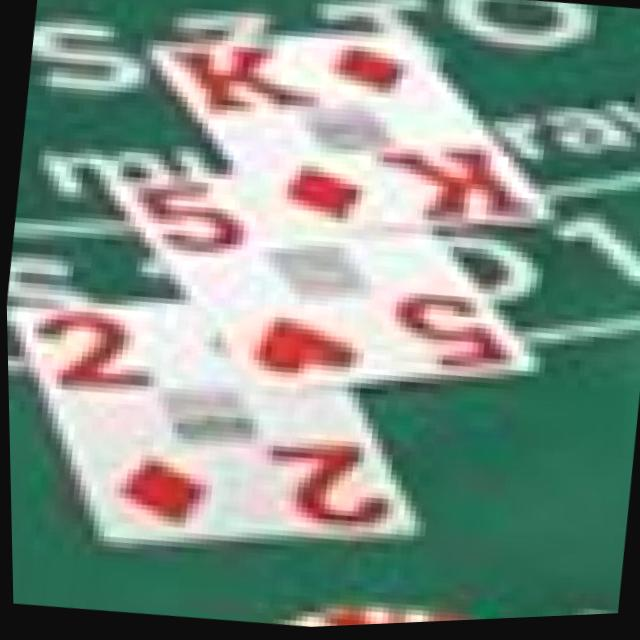Card-2: (13, 301, 417, 542)
Card-5: (116, 183, 534, 390)
Card-K: (152, 36, 556, 237)
